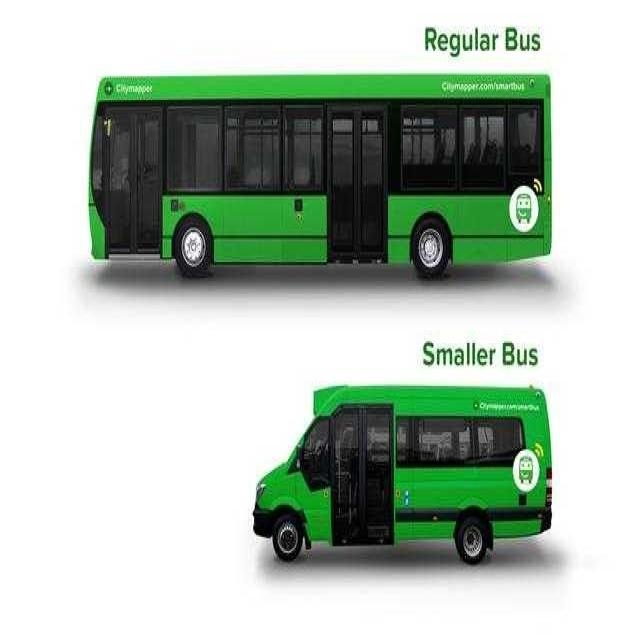Bus: (79, 58, 567, 289), (250, 366, 560, 572)
